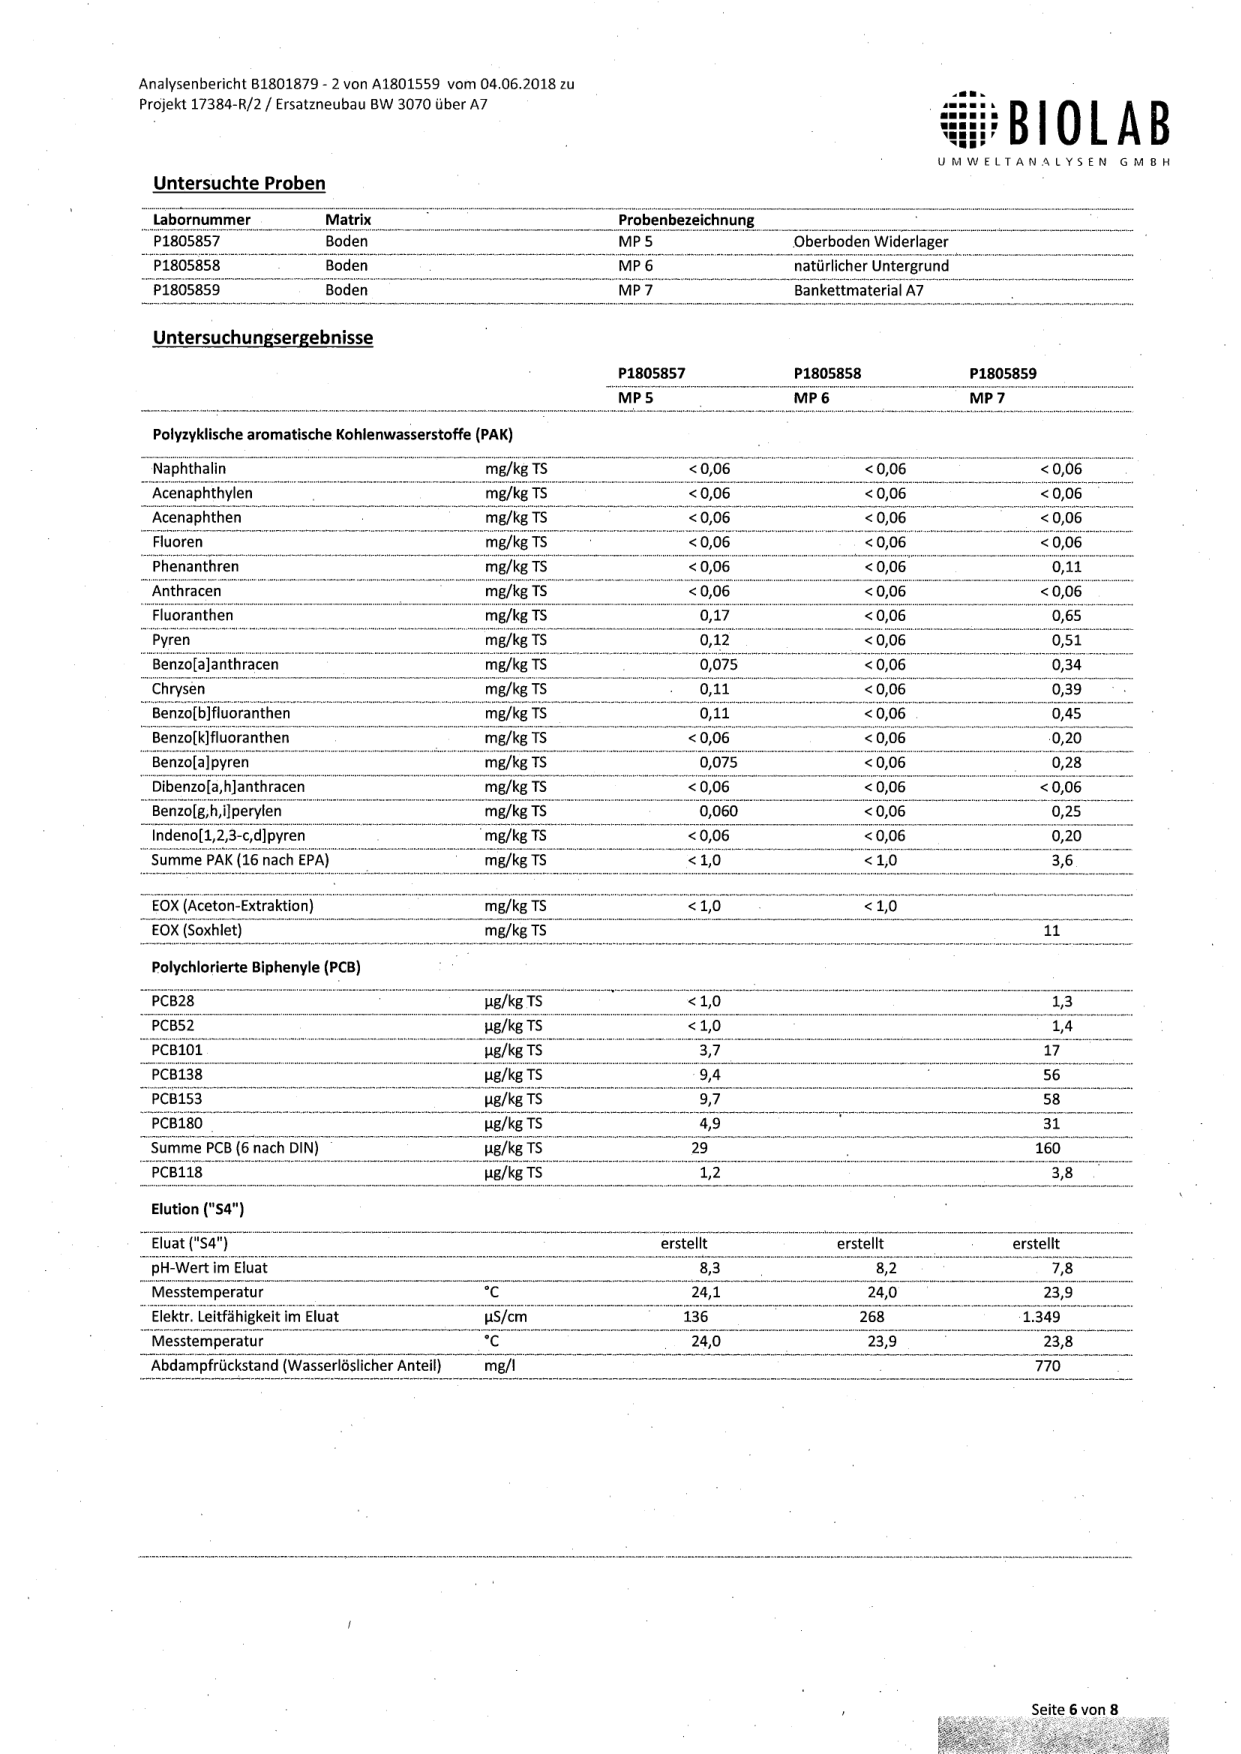table: (130, 449, 1140, 952), (130, 980, 1142, 1193), (132, 1219, 1150, 1390), (138, 204, 1152, 312)
